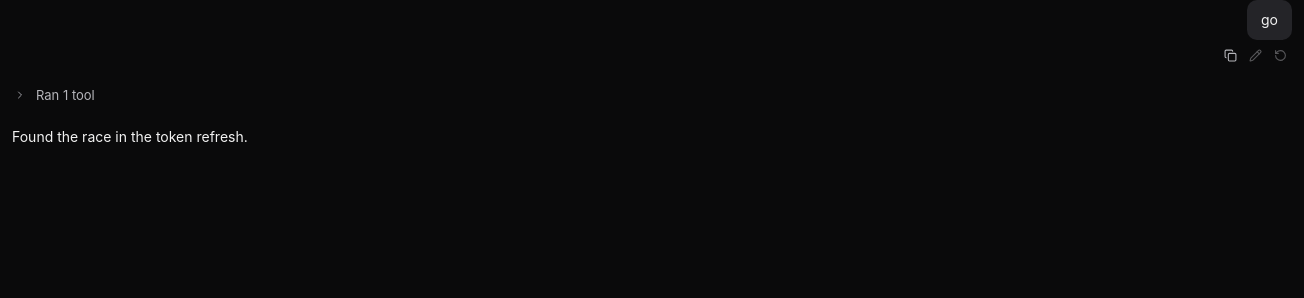
Test: timeline edit and thought previews › keeps a live turn's thinking inside a closed group, under the answer
Expected: the text "The race is in refresh." is not shown
Expected: the text "The token refresh races the form." is not shown
Click the button "Ran 1 tool" at (65, 95), box [12,81,1292,109]
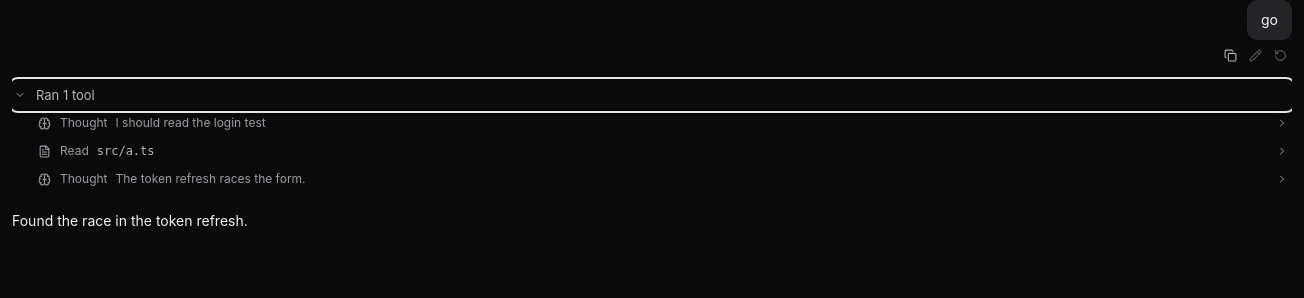
Expected: the text "The race is in refresh." is not shown
Click the button "Thought I should read the login test" at (84, 123), box [60,109,1292,137]
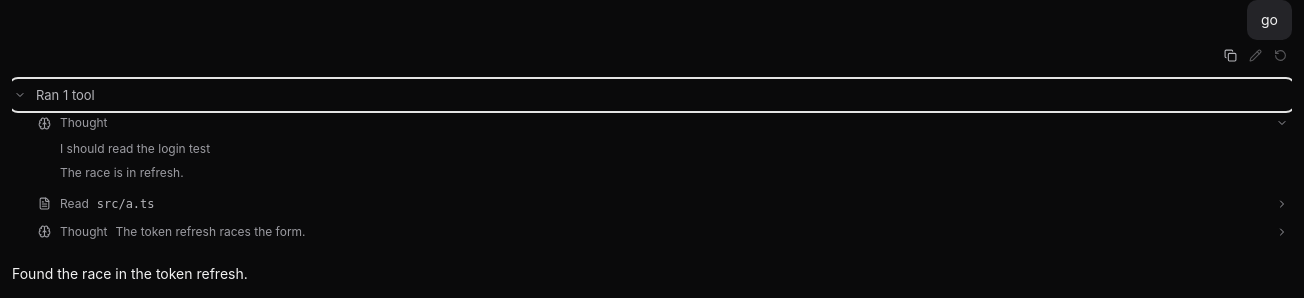
Expected: the text "Found the race in the token refresh." is shown, [12,265,248,282]
Now the text "The race is in refresh." is shown, box [60,165,184,180]
